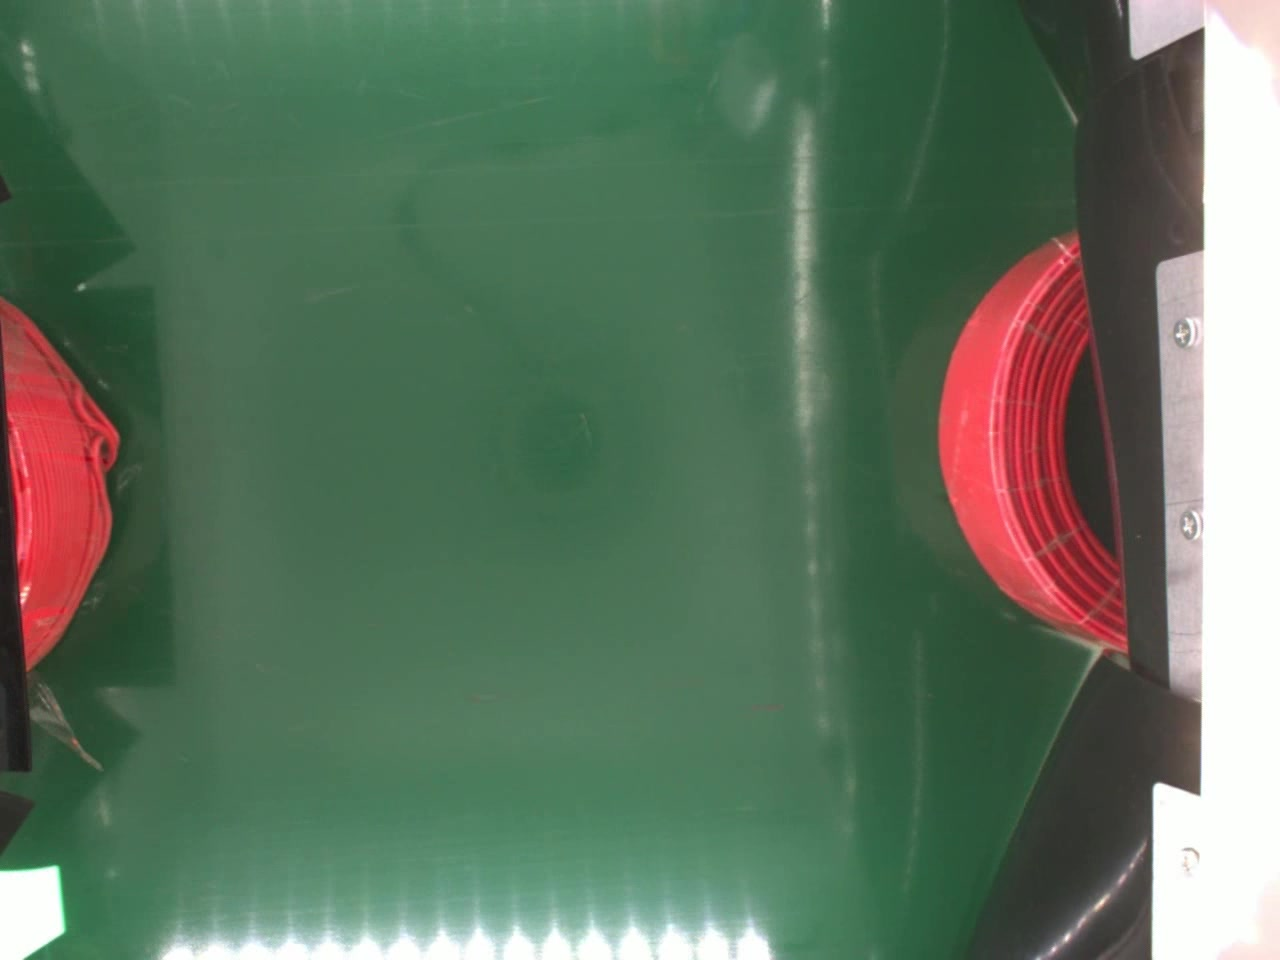red: (934, 229, 1130, 654), (0, 291, 123, 665)
